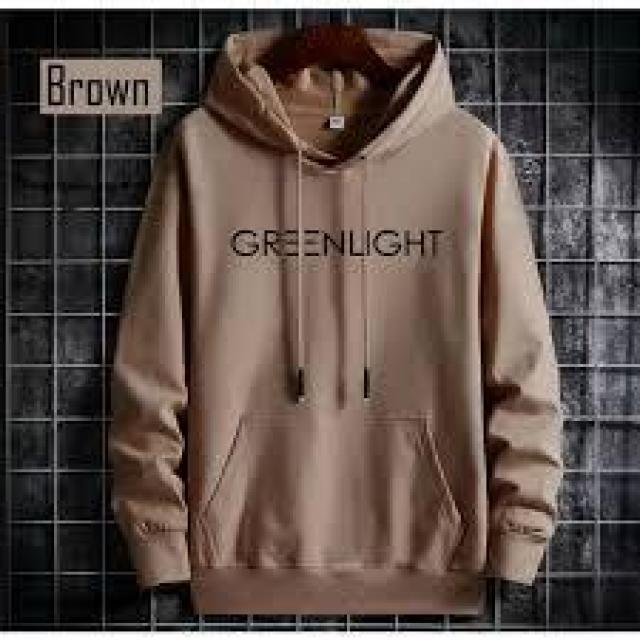sweater: (114, 24, 563, 613)
